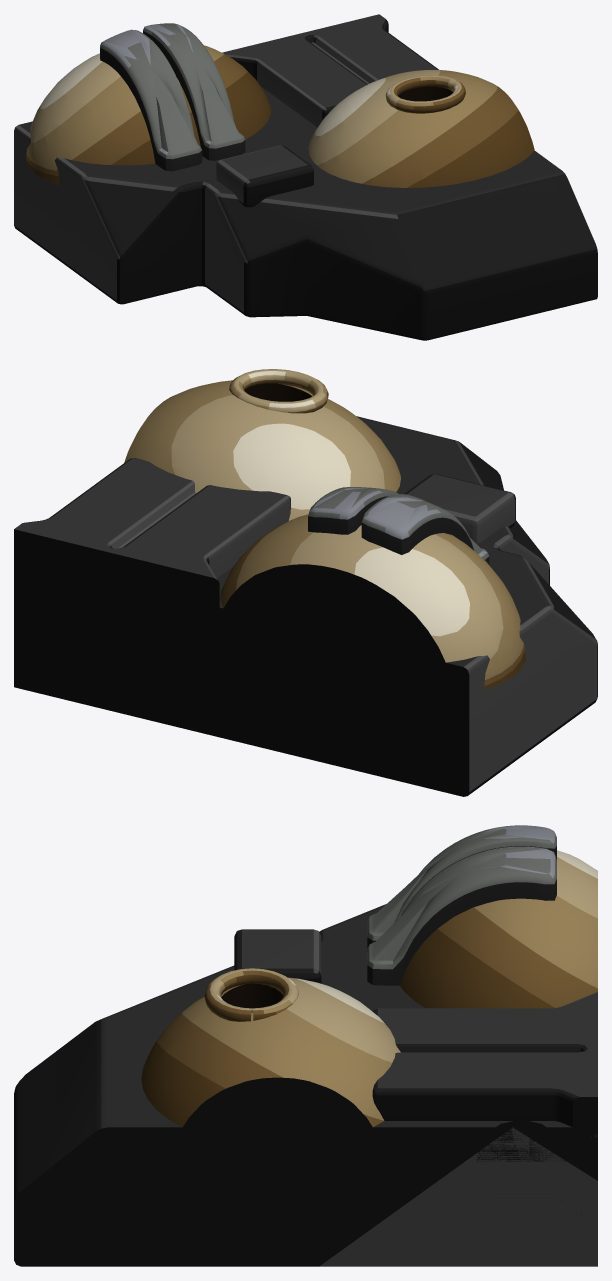
Rendered from gold_domes_bl.glb.
The picture shows the model from 3 angles, top to bottom: view 1: azimuth 30°, elevation 25°; view 2: azimuth 150°, elevation 25°; view 3: azimuth 270°, elevation 25°; orthographic projection. The views are drawn at different scales.
Parts seen in each view (by area): view 1: gold_domes_bl; view 2: gold_domes_bl; view 3: gold_domes_bl.
Part boxes in pixels (x1,y1,x2,y2): gold_domes_bl: (14, 14, 597, 340); gold_domes_bl: (14, 369, 597, 796); gold_domes_bl: (14, 825, 597, 1266).
Bounding box in the file's own units: 22.4 × 11.04 × 22.8.
